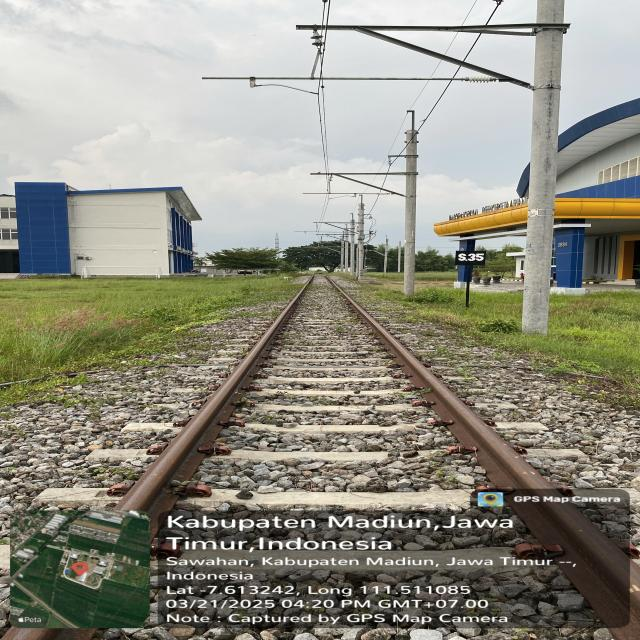rail-detection: (328, 279, 640, 640), (116, 276, 314, 515)
